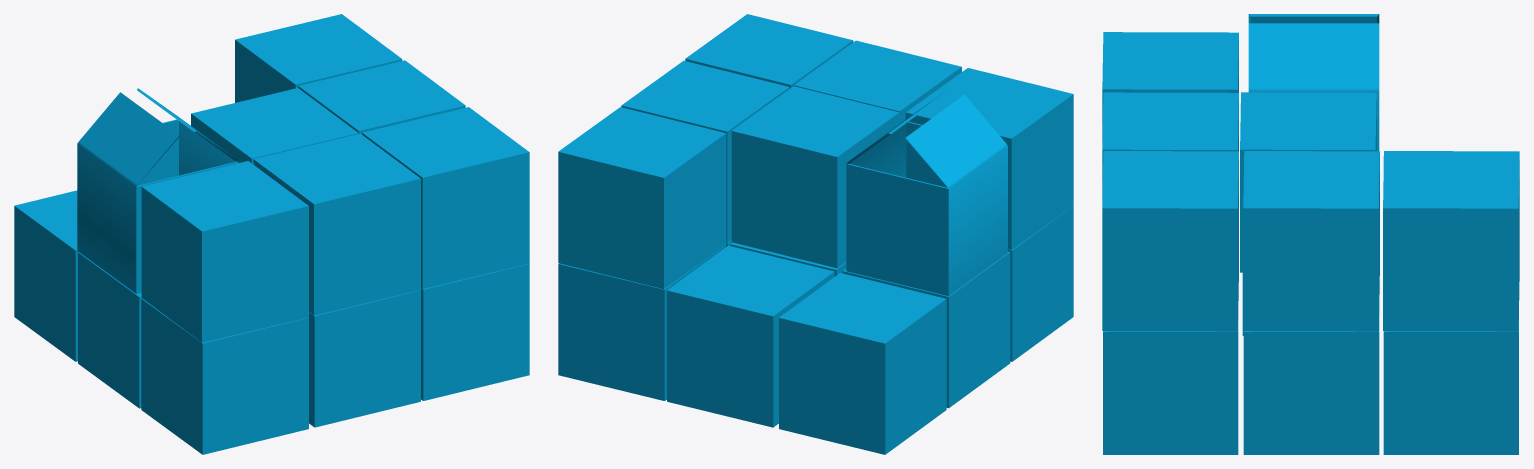
The model's file is Cardboard_Pile.fbx.
3 views of the same model, side by side, from view 1: azimuth 30°, elevation 25°; view 2: azimuth 150°, elevation 25°; view 3: azimuth 270°, elevation 25° (orthographic). The views are drawn at different scales.
Parts seen in each view (by area): view 1: Cardboard_Pile; view 2: Cardboard_Pile; view 3: Cardboard_Pile.
Boxes of the visible parts, x1=… form: Cardboard_Pile: x1=14, y1=14, x2=529, y2=454; Cardboard_Pile: x1=558, y1=14, x2=1073, y2=454; Cardboard_Pile: x1=1102, y1=14, x2=1519, y2=454.
Size of the model in its own units: 91.22 by 69.35 by 91.1.
